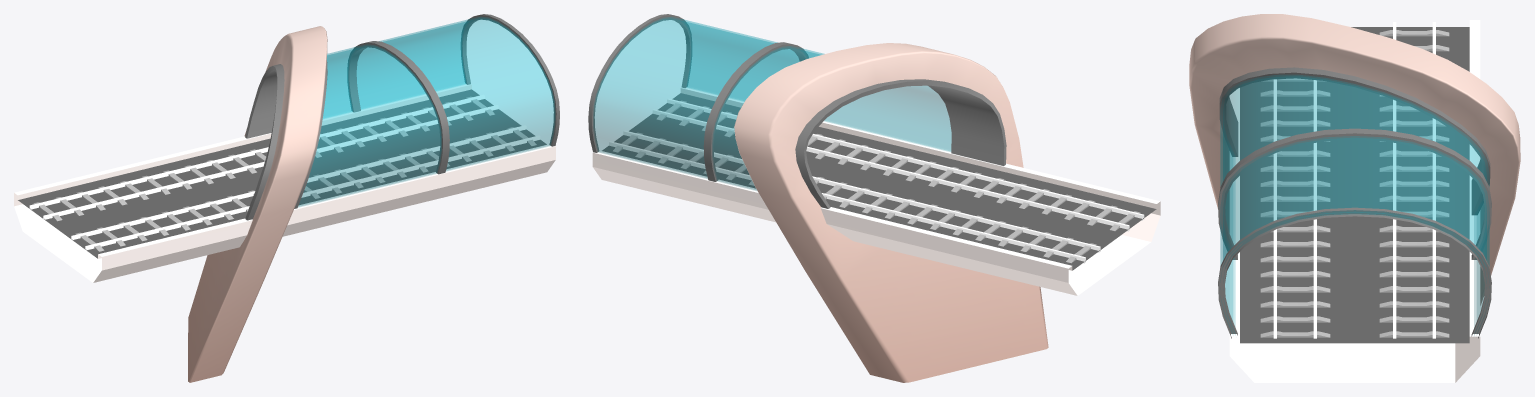
Rendered from railway_002.glb.
3 renders of one model, left to right at view 1: azimuth 30°, elevation 25°; view 2: azimuth 150°, elevation 25°; view 3: azimuth 270°, elevation 25°, orthographic. The views are drawn at different scales.
Parts seen in each view (by area): view 1: railway_002; view 2: railway_002; view 3: railway_002.
Part boxes in pixels (x1,y1,x2,y2): railway_002: (14,14,559,382); railway_002: (588,14,1160,382); railway_002: (1189,14,1520,382).
Bounding box in the file's own units: 30 × 16.8 × 13.26.
Materials: 2 (2 with a texture image).
